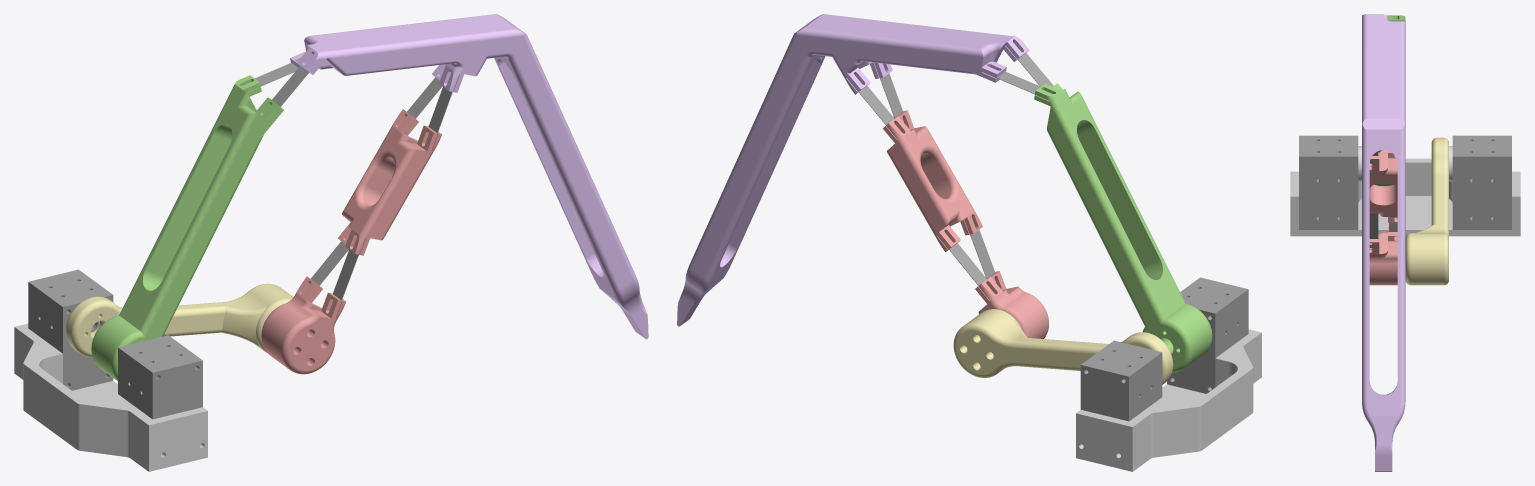
3 views of the same model, side by side, from view 1: azimuth 30°, elevation 25°; view 2: azimuth 150°, elevation 25°; view 3: azimuth 270°, elevation 25° (orthographic). The views are drawn at different scales.
Parts seen in each view (by area): view 1: LinkA_001-1, ServoHolder_004-1, LinkC_003-1, LinkB_002-1, XL430-1, XL430-2; view 2: LinkA_001-1, ServoHolder_004-1, LinkC_003-1, LinkB_002-1, XL430-2, XL430-1; view 3: LinkA_001-1, XL430-1, XL430-2, ServoHolder_004-1, LinkB_002-1, LinkC_003-1, SpringSteelLeaf_001-4.
Boxes of the visible parts, left/top/right/bottom form: LinkA_001-1: left=91, top=14, right=648, bottom=380; ServoHolder_004-1: left=14, top=323, right=207, bottom=471; LinkC_003-1: left=261, top=109, right=441, bottom=374; LinkB_002-1: left=66, top=283, right=293, bottom=357; XL430-1: left=118, top=335, right=202, bottom=419; XL430-2: left=28, top=269, right=113, bottom=390; LinkA_001-1: left=677, top=14, right=1212, bottom=372; ServoHolder_004-1: left=1076, top=329, right=1261, bottom=471; LinkC_003-1: left=883, top=110, right=1048, bottom=338; LinkB_002-1: left=953, top=309, right=1173, bottom=384; XL430-2: left=1080, top=340, right=1162, bottom=421; XL430-1: left=1167, top=277, right=1248, bottom=393; LinkA_001-1: left=1362, top=14, right=1405, bottom=471; XL430-1: left=1299, top=135, right=1361, bottom=229; XL430-2: left=1449, top=135, right=1511, bottom=229; ServoHolder_004-1: left=1290, top=158, right=1520, bottom=236; LinkB_002-1: left=1405, top=137, right=1448, bottom=285; LinkC_003-1: left=1369, top=150, right=1397, bottom=285; SpringSteelLeaf_001-4: left=1369, top=213, right=1378, bottom=247.
Size of the model in its own units: 0.3287 by 0.2014 by 0.132.
